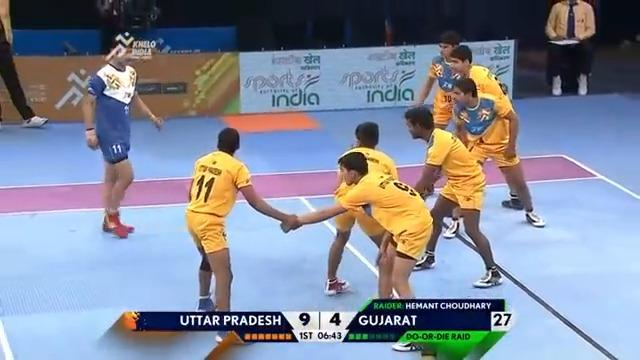Player: (279, 149, 436, 355), (184, 126, 299, 342), (440, 44, 546, 235), (403, 105, 503, 288), (324, 121, 398, 297), (0, 0, 48, 128), (410, 30, 463, 131)
Raider: (81, 31, 164, 238)
referee: (543, 0, 596, 96)
